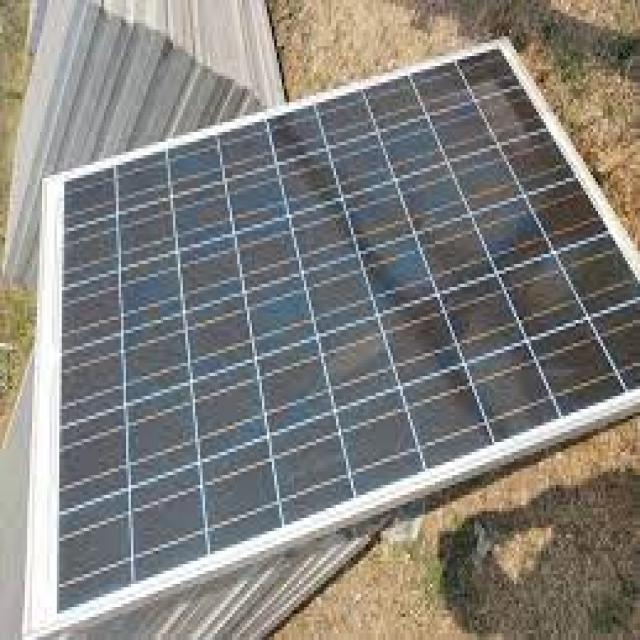faulty: (51, 44, 640, 617)
